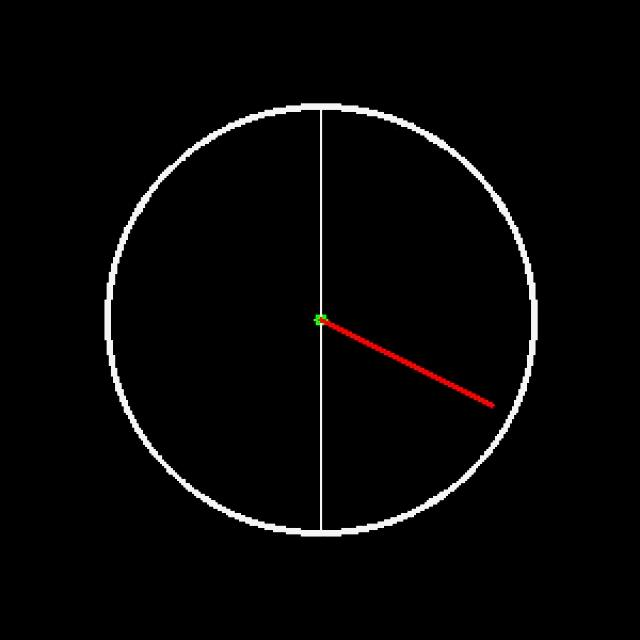Needle_Tip: (473, 393, 520, 434)
Needle_base: (299, 284, 361, 357)
